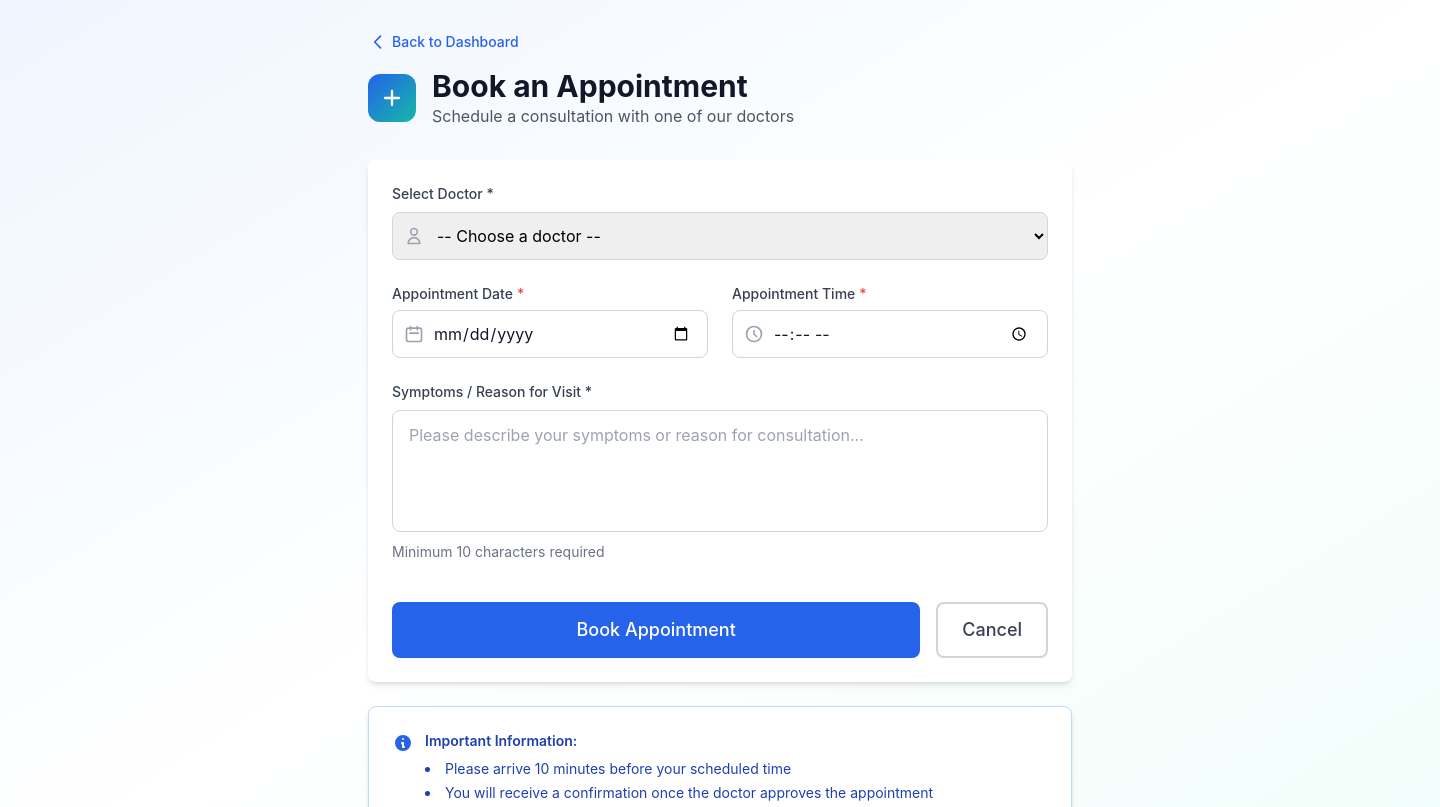
BookAppointment Component › validates symptoms minimum length
Step 1. Type "short" into the text box labelled "Symptoms / Reason for Visit *" → (720, 471), box [392,410,1048,532]
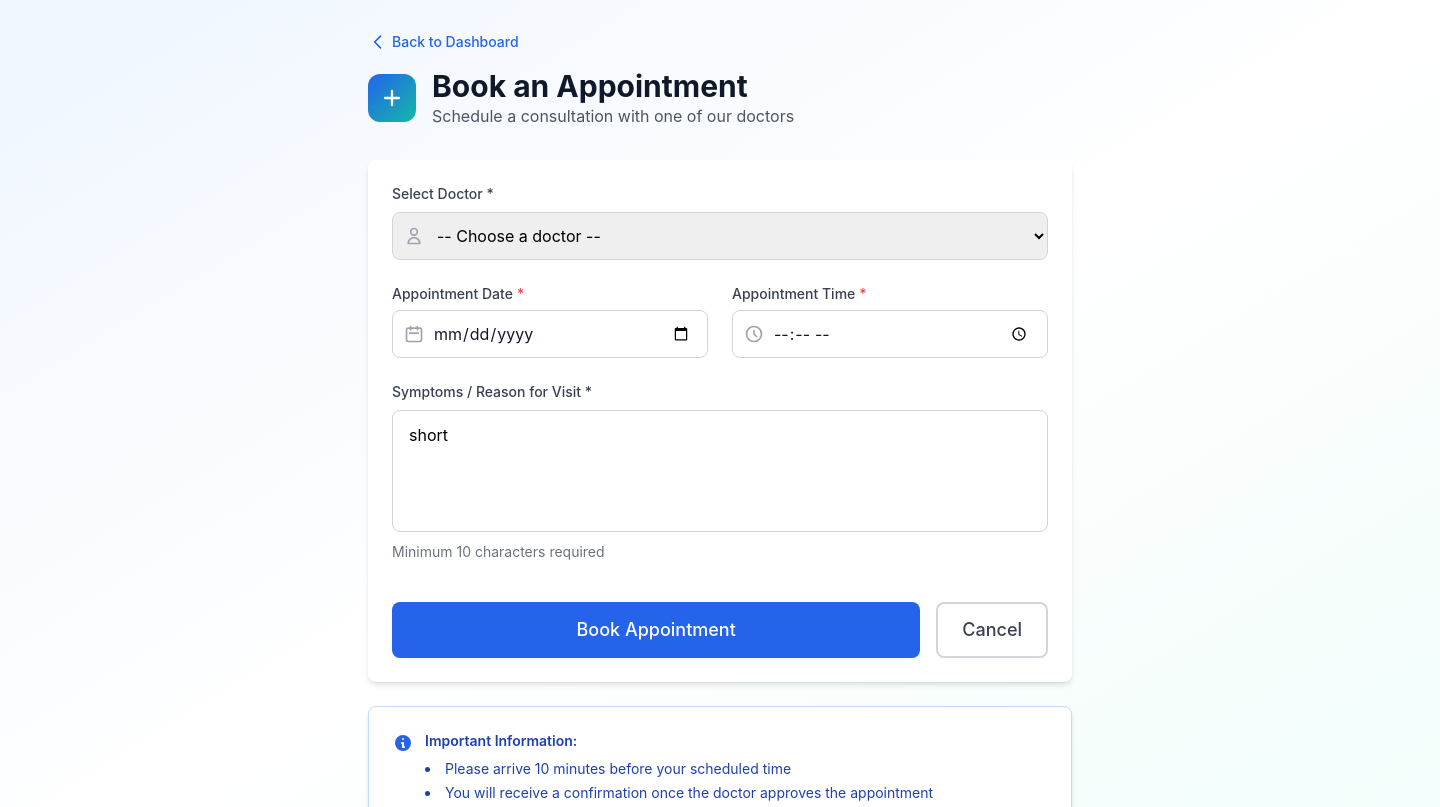
Step 2. Click the button "Book Appointment" → (656, 630), box [392,602,920,658]
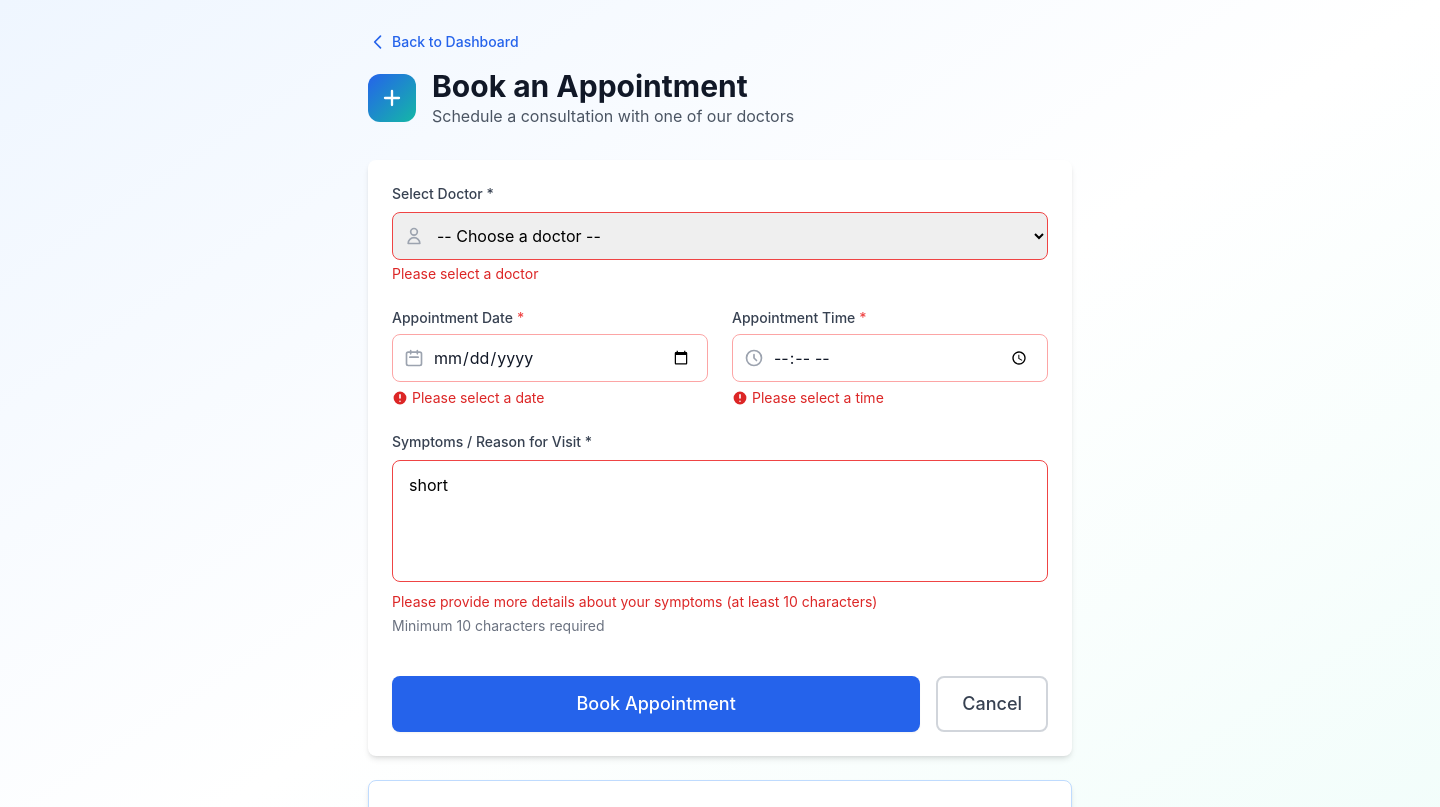
Result: the text "at least 10 characters" is shown at [392,593,878,610]
